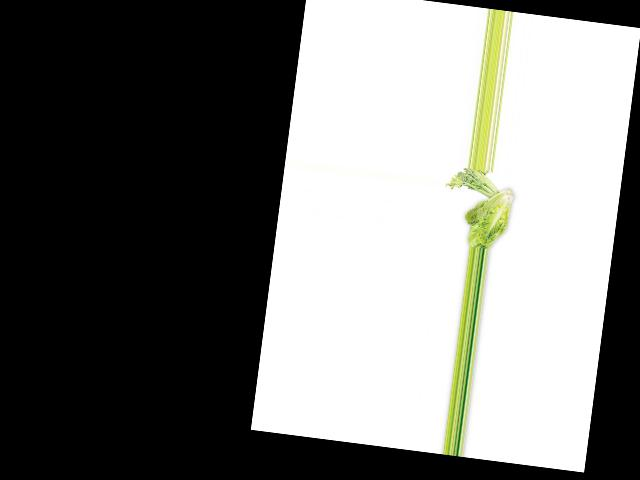lettuce: (455, 179, 513, 252)
